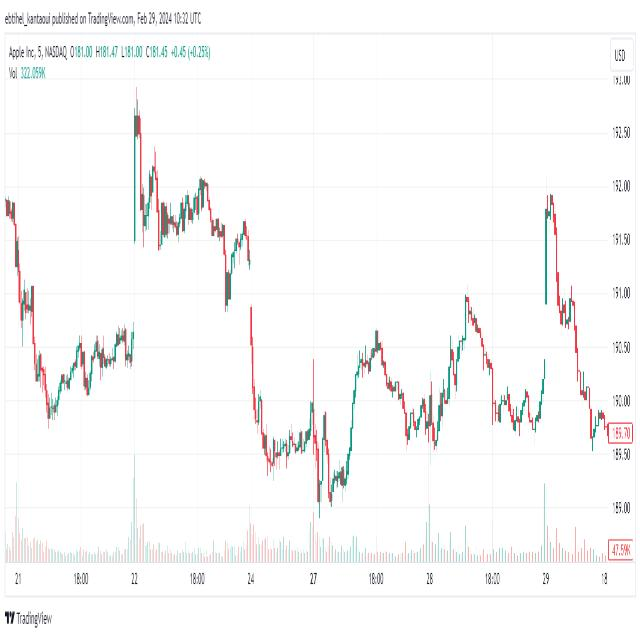Ascending-Triangle: (21, 328, 163, 460)
Descending-Triangle: (130, 80, 196, 254)
Double-Bottom: (307, 386, 353, 516)
Head-Shoulders: (176, 157, 228, 323), (349, 323, 410, 453)
Inverse-Head-Shoulders: (28, 290, 82, 440)
Rounding-Bottom: (247, 293, 366, 520), (370, 277, 476, 456)
Triangle: (247, 384, 315, 500)
